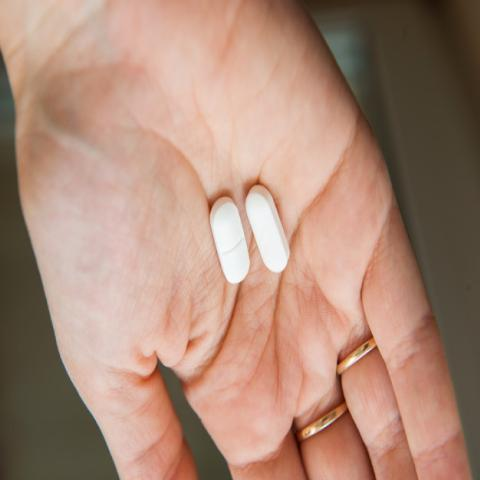Pill: (200, 178, 252, 308), (249, 178, 308, 285)
